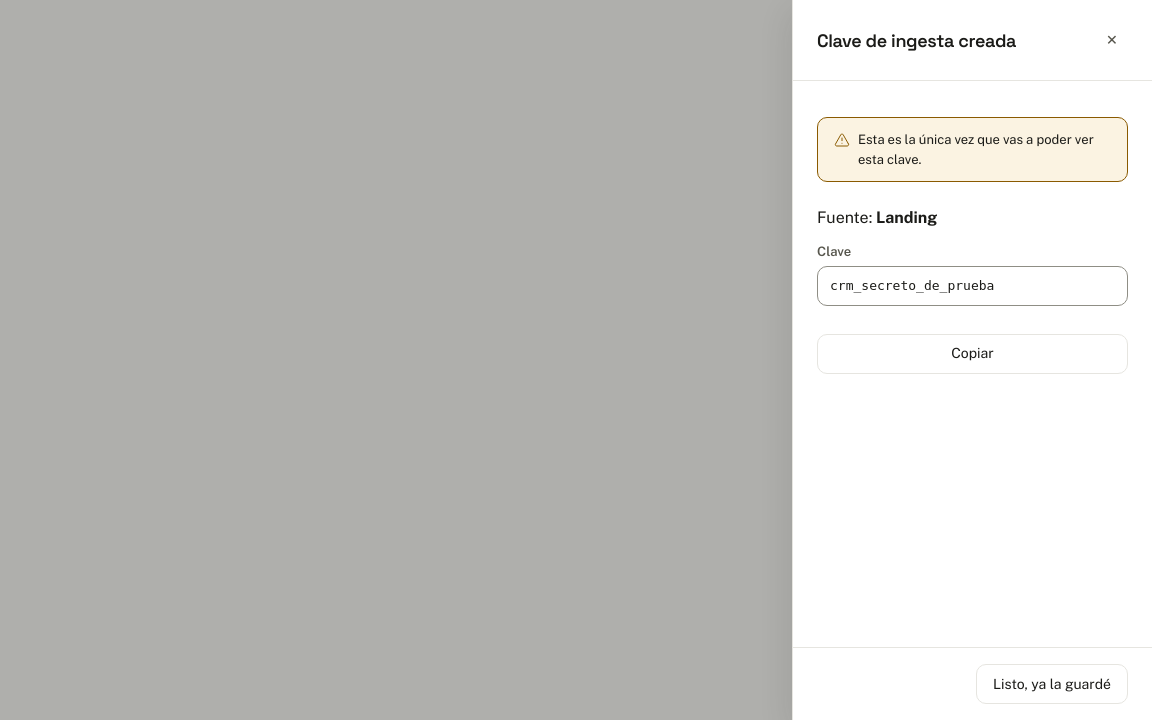
ApiKeySecretDialog › Copiar manda la clave al portapapeles y confirma con un cambio de texto
The width and height of the screenshot is (1152, 720).
Click the button "Copiar".
click(972, 354)  # box top-left (817, 334), bottom-right (1128, 374)
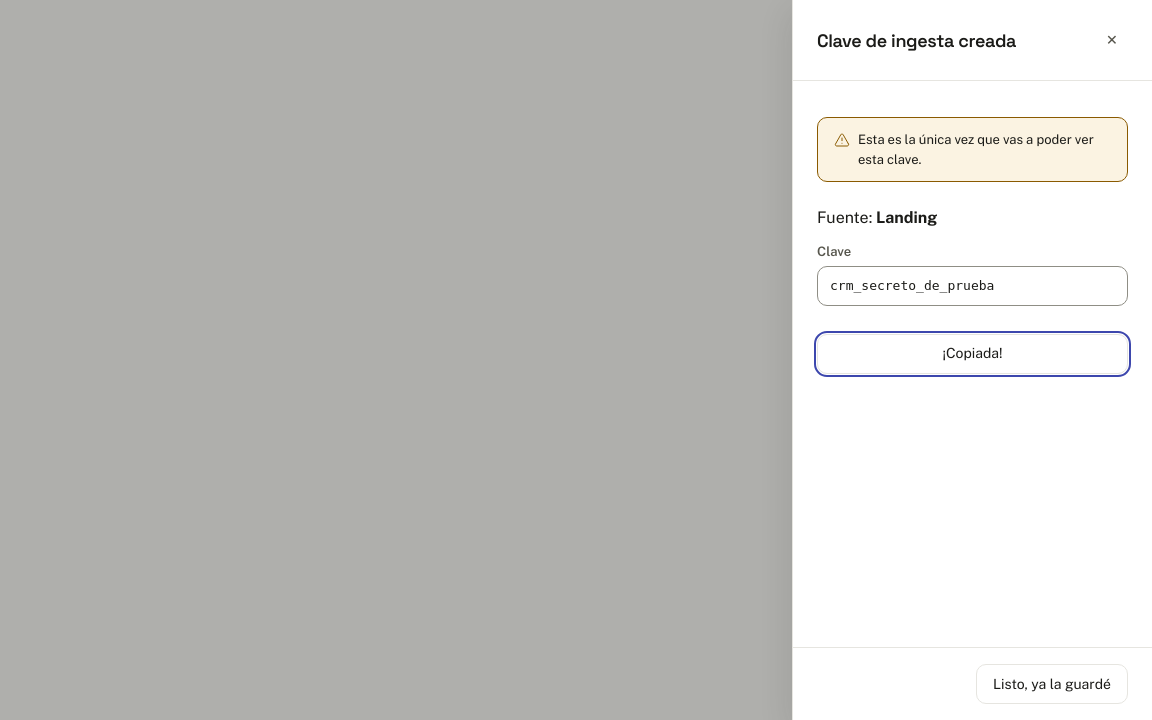
Expected: the button "¡Copiada!" is shown, top-left (817, 334), bottom-right (1128, 374)
